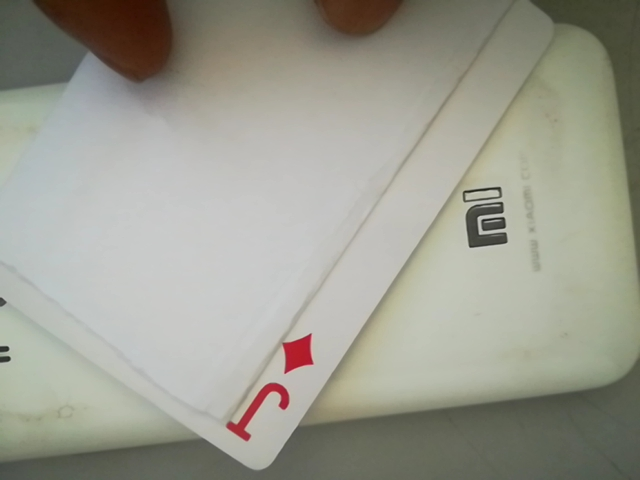fk j: (226, 331, 324, 451)
